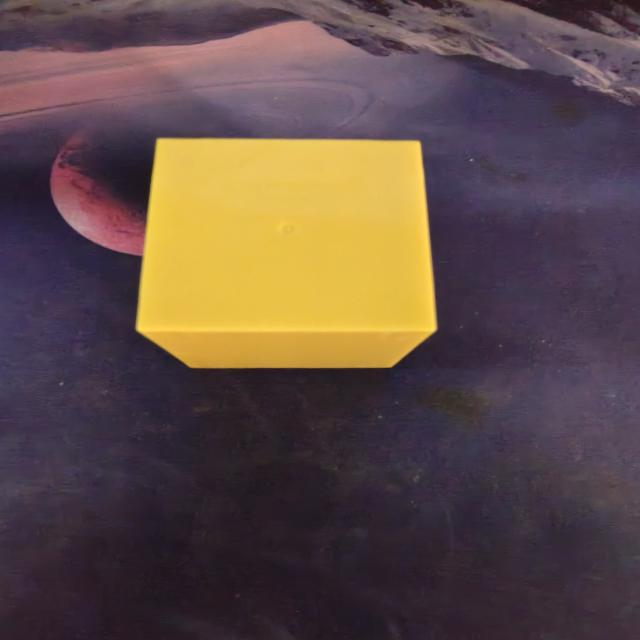yellow: (124, 130, 448, 376)
